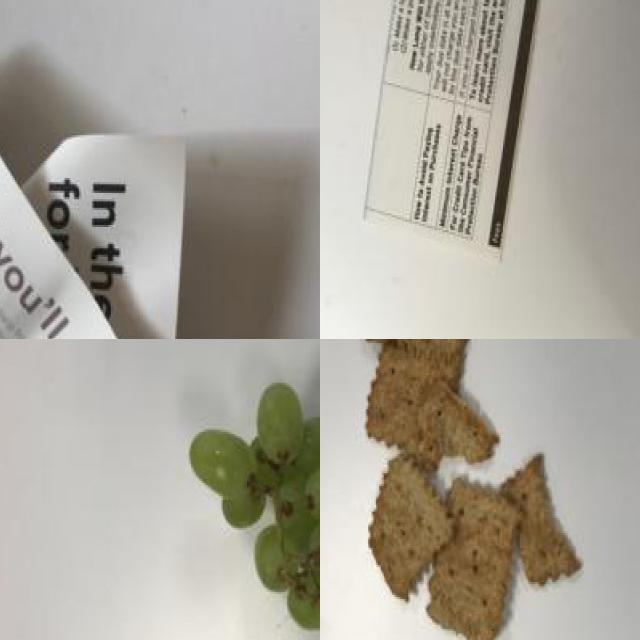compost: (334, 339, 592, 640), (188, 363, 320, 640)
paper: (349, 0, 593, 247), (0, 29, 191, 339)
